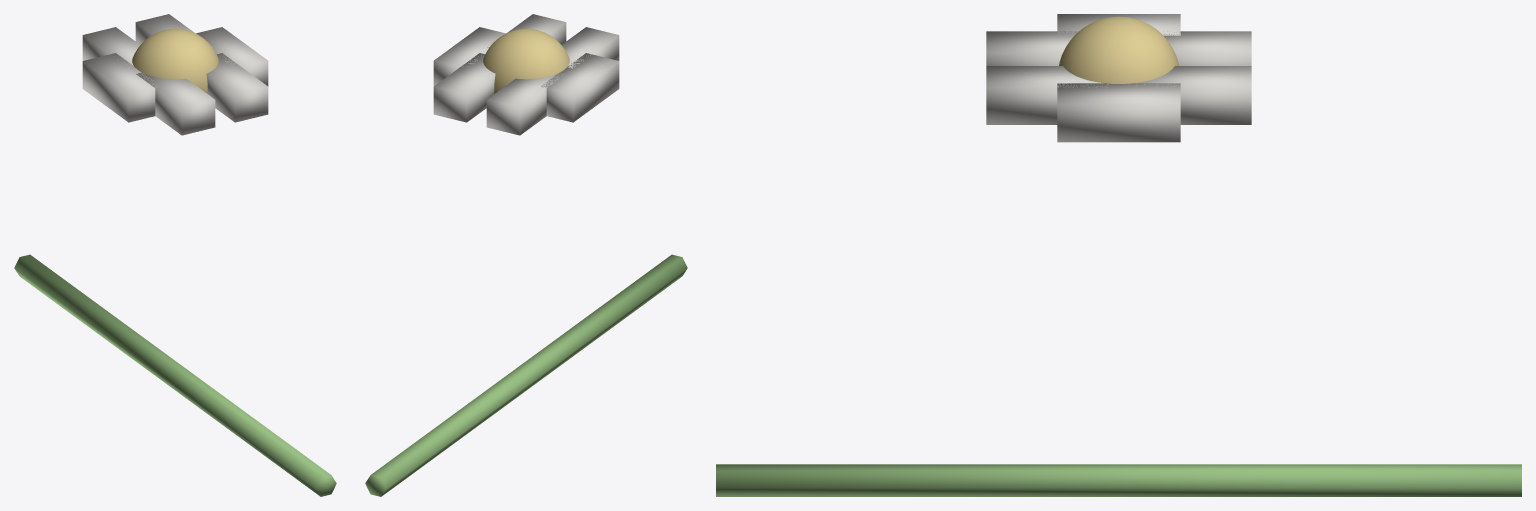
The model's file is plant_flower_daisy.glb.
3 renders of one model, left to right at view 1: azimuth 30°, elevation 25°; view 2: azimuth 150°, elevation 25°; view 3: azimuth 270°, elevation 25°, orthographic. The views are drawn at different scales.
Visible parts, largest first — view 1: stem, center, petal3, petal2, petal1, petal0, petal4, petal5; view 2: stem, petal3, center, petal4, petal5, petal0, petal2, petal1; view 3: stem, petal0, center, petal5, petal1, petal2, petal4, petal3.
Part boxes in pixels (x1,y1,x2,y2): stem: [14, 254, 336, 496]; center: [132, 28, 218, 93]; petal3: [82, 53, 157, 122]; petal2: [136, 72, 215, 135]; petal1: [206, 53, 268, 122]; petal0: [196, 27, 268, 86]; petal4: [82, 27, 139, 67]; petal5: [135, 14, 194, 44]; stem: [365, 254, 687, 496]; petal3: [541, 53, 619, 122]; center: [483, 28, 569, 93]; petal4: [486, 73, 563, 135]; petal5: [433, 53, 495, 122]; petal0: [433, 27, 505, 86]; petal2: [562, 27, 619, 68]; petal1: [487, 14, 566, 47]; stem: [716, 464, 1521, 496]; petal0: [1057, 83, 1180, 142]; center: [1059, 16, 1178, 83]; petal5: [1128, 66, 1251, 124]; petal1: [986, 66, 1108, 124]; petal2: [986, 31, 1078, 65]; petal4: [1163, 31, 1251, 65]; petal3: [1057, 14, 1180, 35].
Bounding box in the file's own units: 0.105 × 0.2531 × 0.3923.
